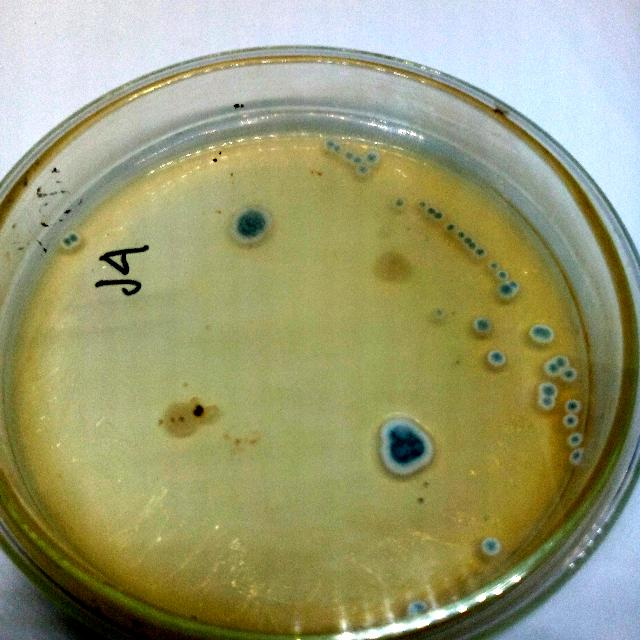colony: (376, 417, 440, 477), (231, 205, 273, 248), (372, 248, 414, 286), (162, 400, 200, 440), (528, 322, 556, 346), (403, 598, 431, 618), (481, 536, 502, 556), (544, 359, 562, 379), (538, 381, 558, 399), (488, 349, 507, 367), (473, 316, 493, 332), (560, 366, 578, 382), (564, 399, 582, 415), (566, 432, 584, 448), (554, 354, 570, 371), (497, 283, 513, 299), (568, 448, 584, 464), (538, 396, 556, 410), (366, 150, 380, 166), (357, 162, 371, 178), (68, 231, 82, 247), (564, 414, 578, 428), (60, 237, 74, 250), (473, 247, 487, 259), (394, 197, 406, 210), (351, 154, 363, 166), (324, 137, 336, 149), (462, 234, 473, 246), (497, 270, 508, 282), (446, 221, 456, 233), (466, 240, 476, 252), (489, 260, 499, 272), (508, 280, 520, 290), (344, 150, 354, 160), (332, 144, 342, 154), (418, 200, 428, 210), (426, 206, 436, 216), (456, 230, 466, 240), (434, 212, 444, 220)
